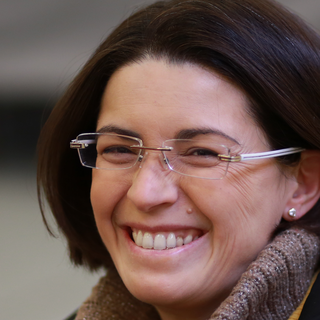eye: (178, 142, 228, 166), (103, 141, 145, 163)
